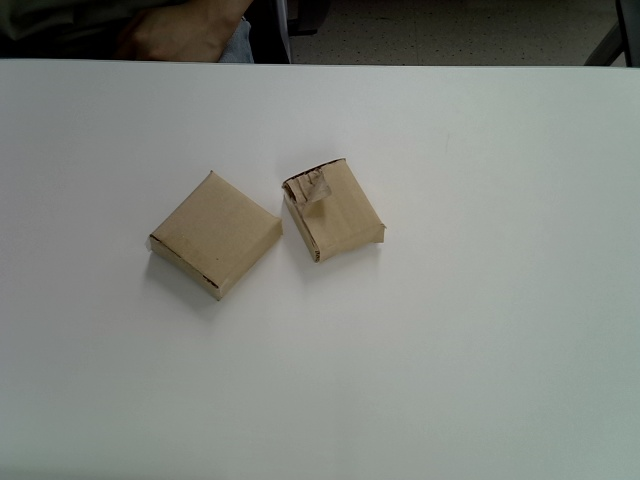defect: (282, 159, 388, 262)
normal: (145, 171, 284, 301)
